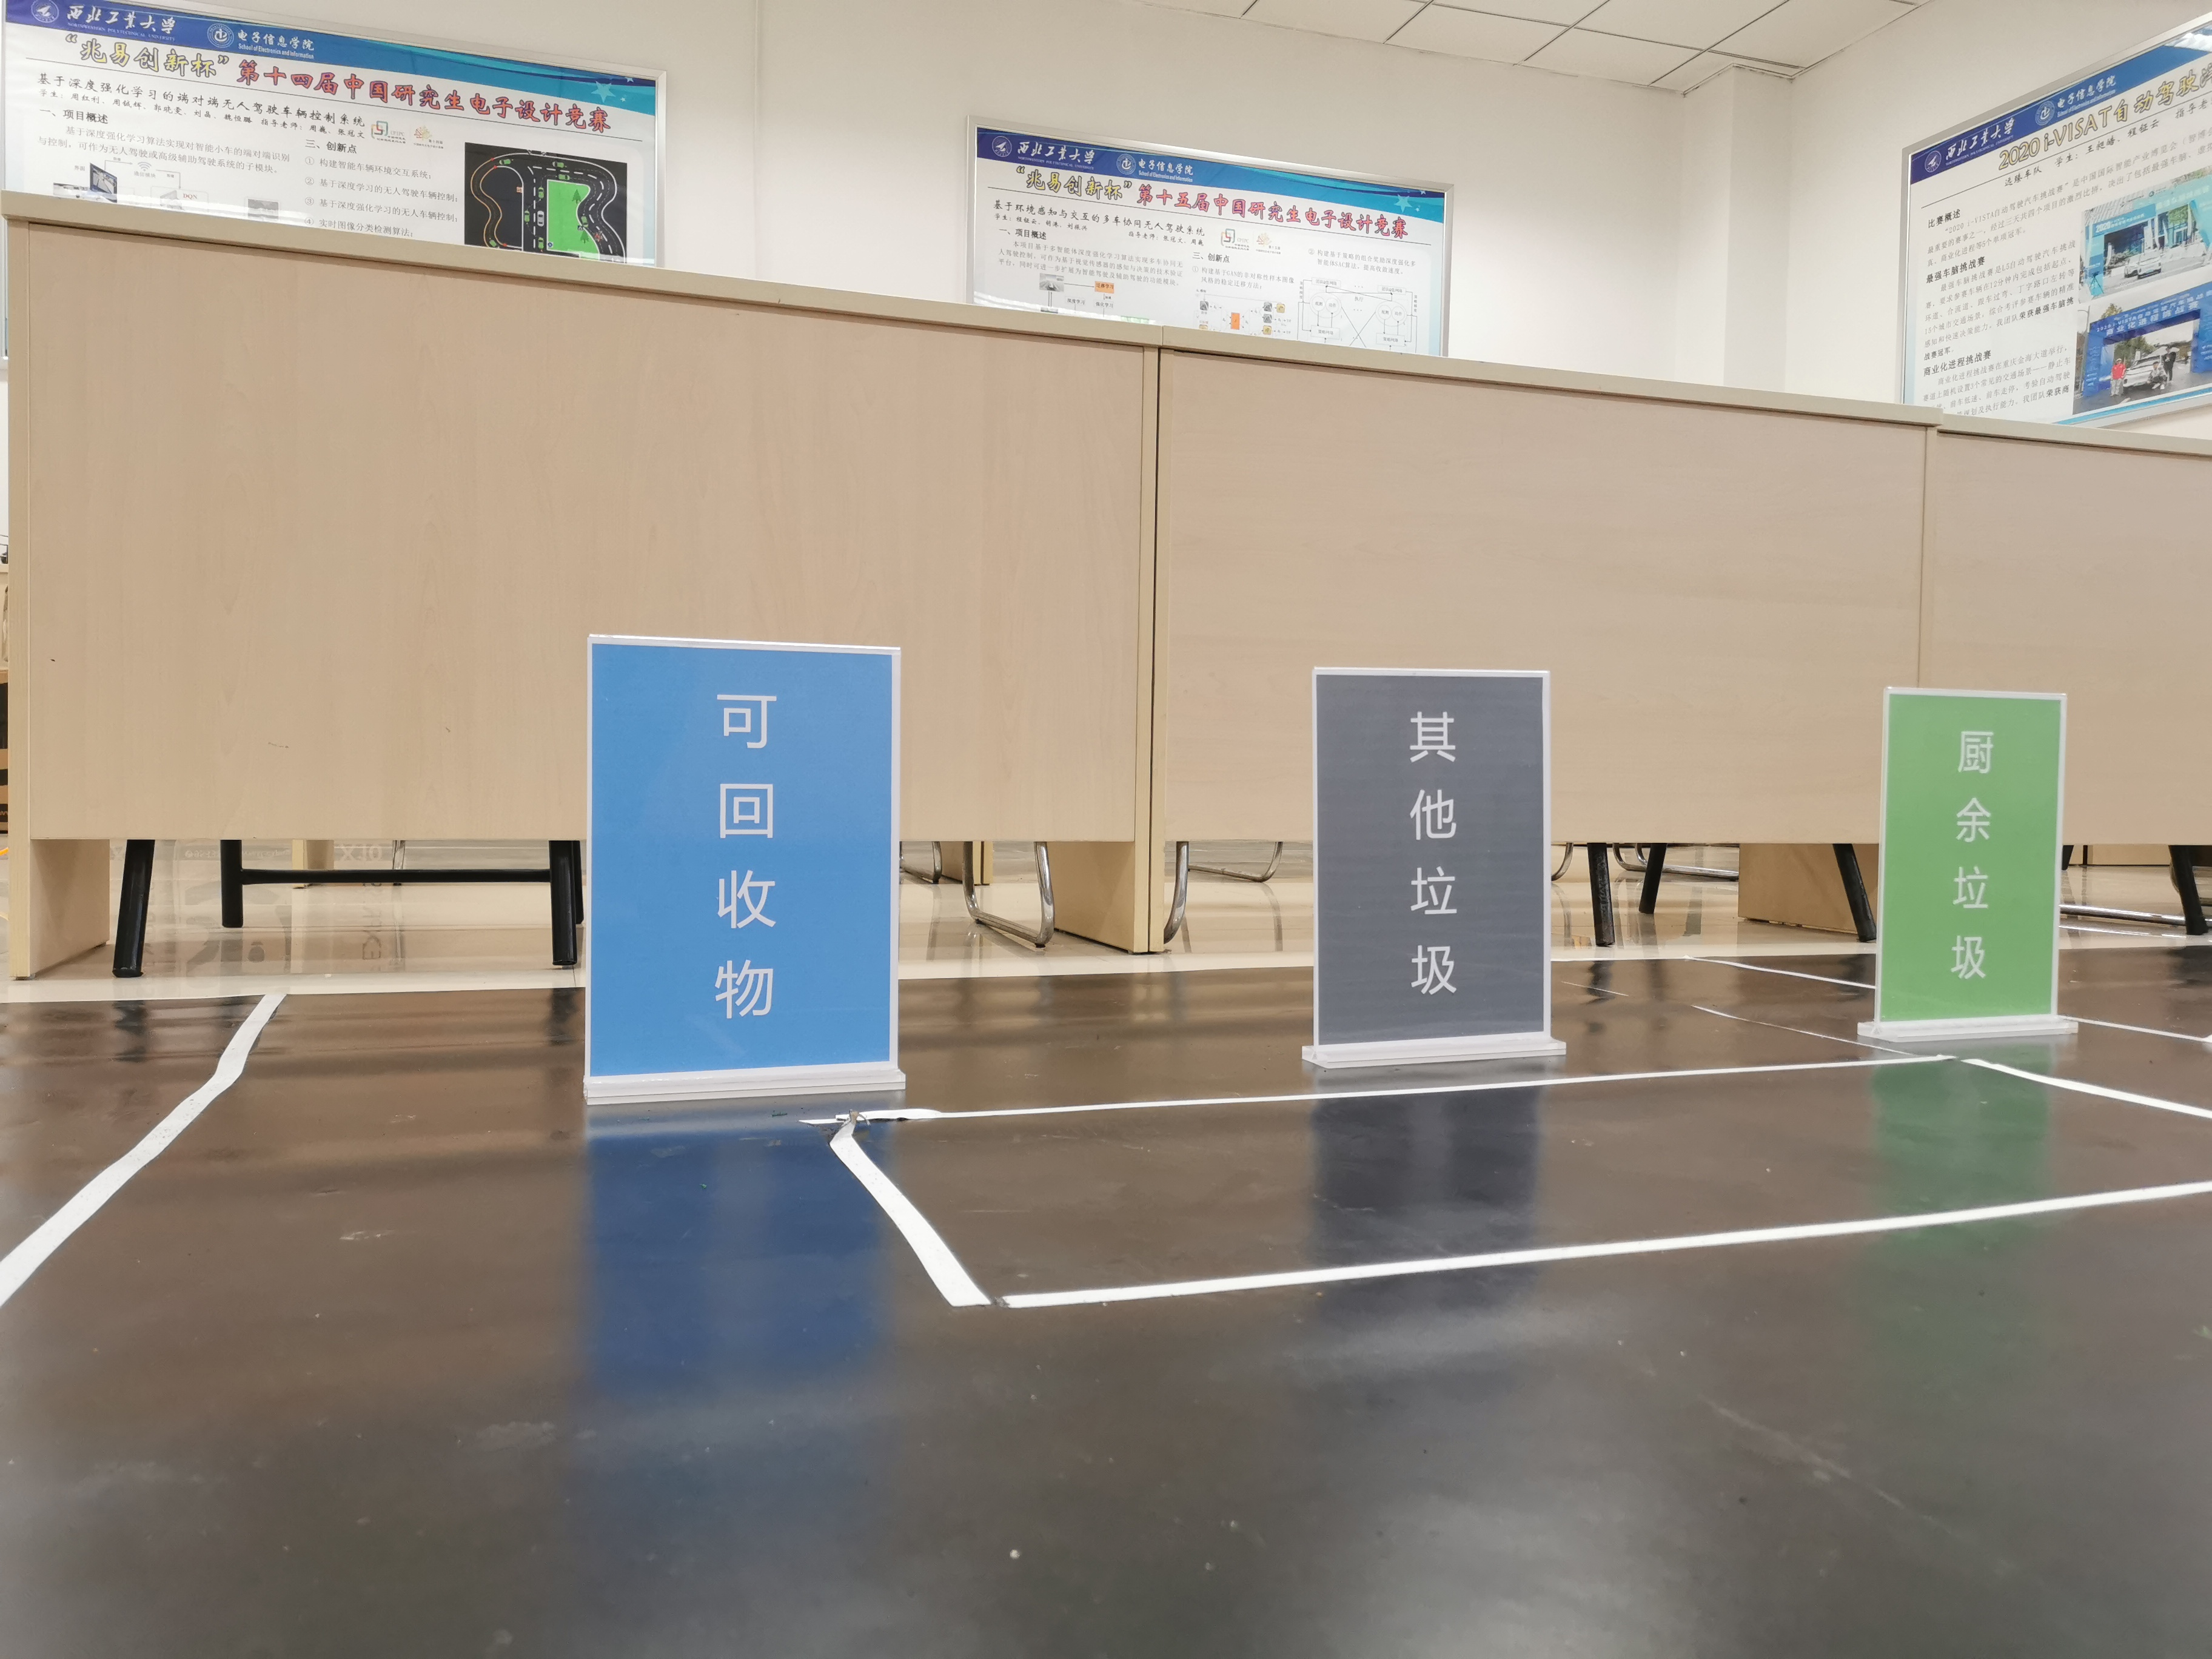black: (1320, 676, 1538, 1023)
blue: (596, 659, 887, 1056)
green: (1895, 701, 2048, 1009)
